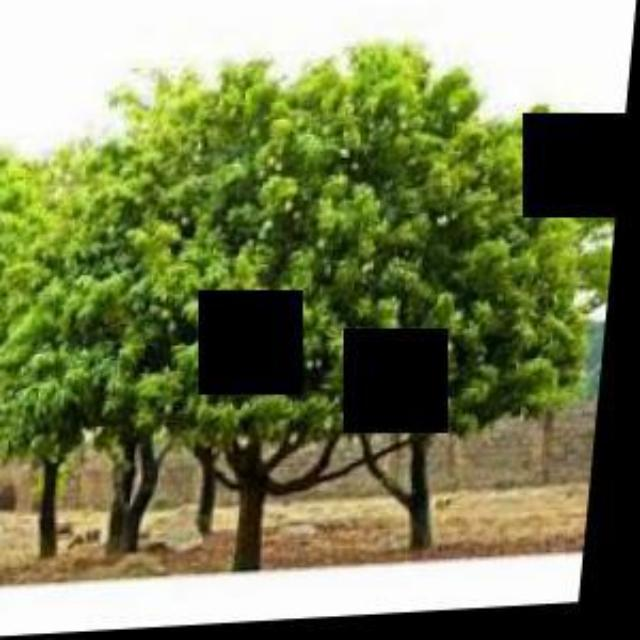tree: (30, 28, 614, 566)
